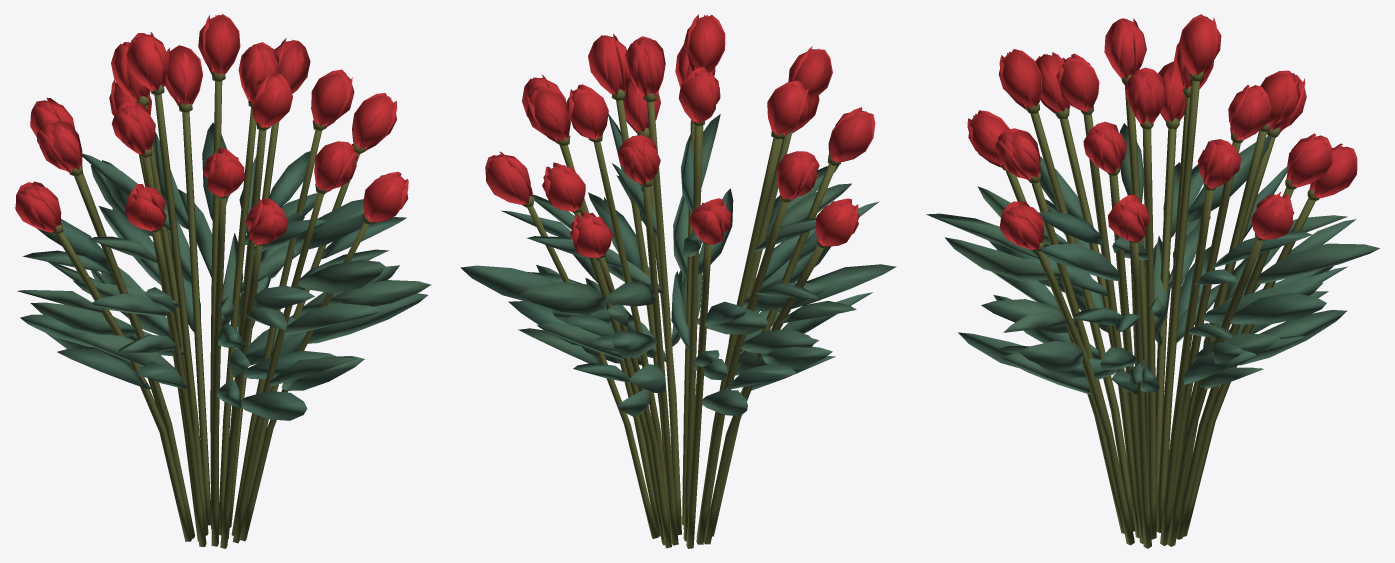
File: bucket_tulips_red.glb
The picture shows the model from 3 angles, left to right: view 1: azimuth 30°, elevation 25°; view 2: azimuth 150°, elevation 25°; view 3: azimuth 270°, elevation 25°; orthographic projection.
Parts seen in each view (by area): view 1: Sammel Pflanze, Sammel Putz; view 2: Sammel Pflanze, Sammel Putz; view 3: Sammel Pflanze, Sammel Putz.
Part boxes in pixels (bbox=[...]): Sammel Pflanze: bbox=[14, 14, 431, 420]; Sammel Putz: bbox=[50, 71, 375, 548]; Sammel Pflanze: bbox=[460, 14, 896, 416]; Sammel Putz: bbox=[522, 89, 840, 548]; Sammel Pflanze: bbox=[926, 14, 1379, 395]; Sammel Putz: bbox=[1001, 72, 1319, 548].
Bounding box in the file's own units: 0.4216 × 0.5525 × 0.457.
